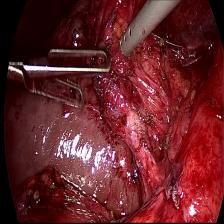Grasper: (10, 47, 113, 111)
Irrigator: (119, 12, 146, 60)
